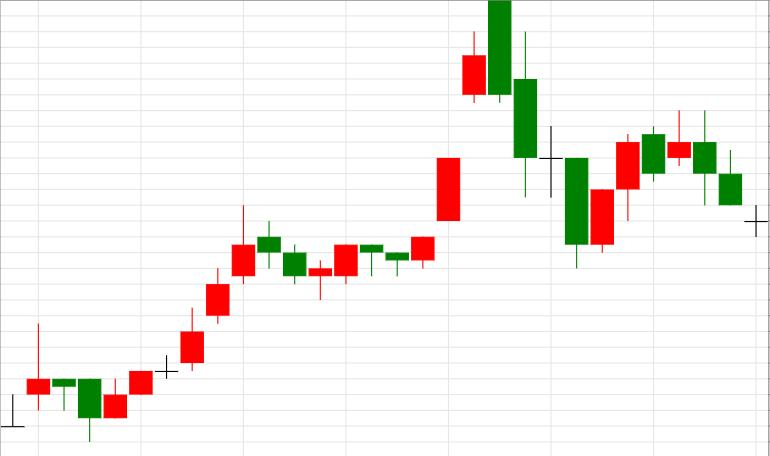bearish_engulfing_fall: (309, 0, 512, 299)
shooting_star_fall: (104, 205, 256, 419)
